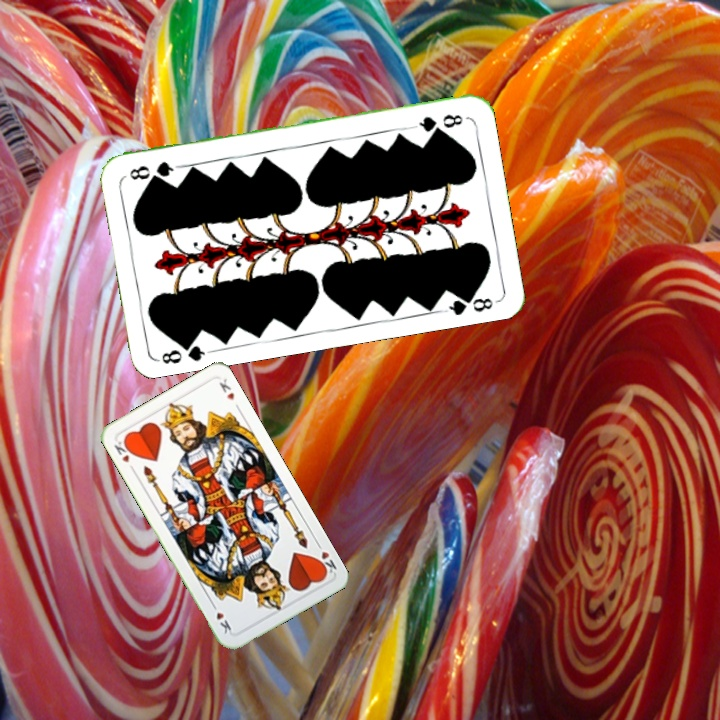G8: (155, 335, 214, 367), (410, 110, 466, 135)
HK: (312, 538, 339, 578), (110, 436, 137, 474)
